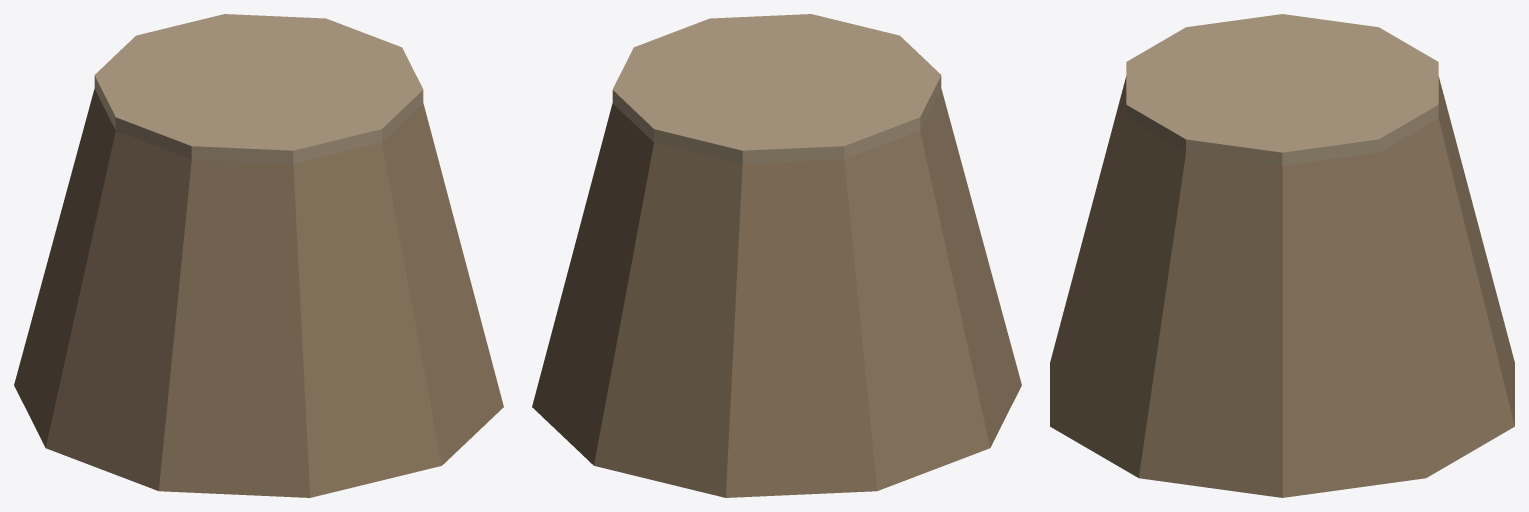
Rendered from nature_stump_02.glb.
The picture shows the model from 3 angles, left to right: view 1: azimuth 30°, elevation 25°; view 2: azimuth 150°, elevation 25°; view 3: azimuth 270°, elevation 25°; orthographic projection.
Parts seen in each view (by area): view 1: geometry_0; view 2: geometry_0; view 3: geometry_0.
Part boxes in pixels (<box>): geometry_0: <box>14,14,503,497</box>; geometry_0: <box>532,14,1021,497</box>; geometry_0: <box>1050,14,1514,497</box>.
Bounding box in the file's own units: 0.8989 × 0.6317 × 0.8549.
